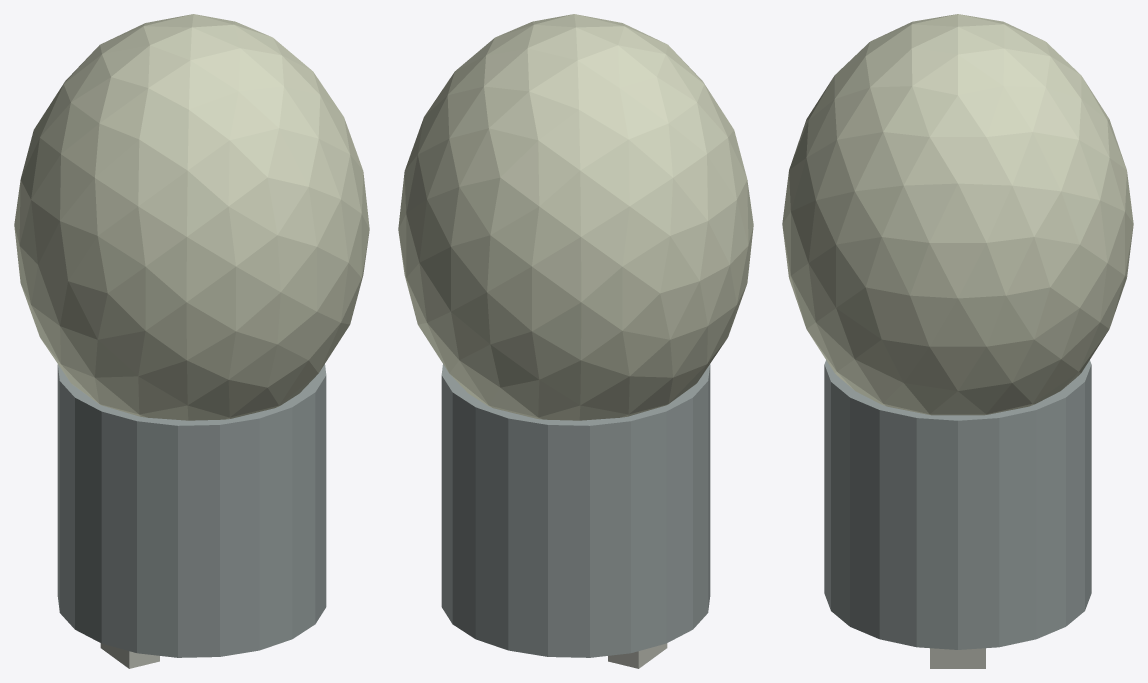
Rendered from SUP_Bulb.glb.
3 renders of one model, left to right at view 1: azimuth 30°, elevation 25°; view 2: azimuth 150°, elevation 25°; view 3: azimuth 270°, elevation 25°, orthographic.
Parts seen in each view (by area): view 1: Glass, Base, Contacts; view 2: Glass, Base, Contacts; view 3: Glass, Base, Contacts.
Boxes of the visible parts, bbox=[...] form: Glass: bbox=[14, 14, 369, 420]; Base: bbox=[57, 364, 326, 657]; Contacts: bbox=[100, 643, 159, 668]; Glass: bbox=[398, 14, 753, 420]; Base: bbox=[441, 364, 710, 657]; Contacts: bbox=[608, 643, 667, 668]; Glass: bbox=[782, 14, 1133, 415]; Base: bbox=[824, 360, 1091, 649]; Contacts: bbox=[930, 648, 985, 668].
Size of the model in its own units: 0.05 by 0.095 by 0.05.
